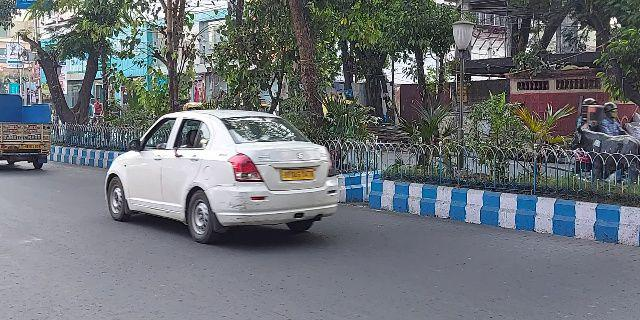Car: (102, 104, 339, 247)
Minitruck: (1, 90, 56, 172)
